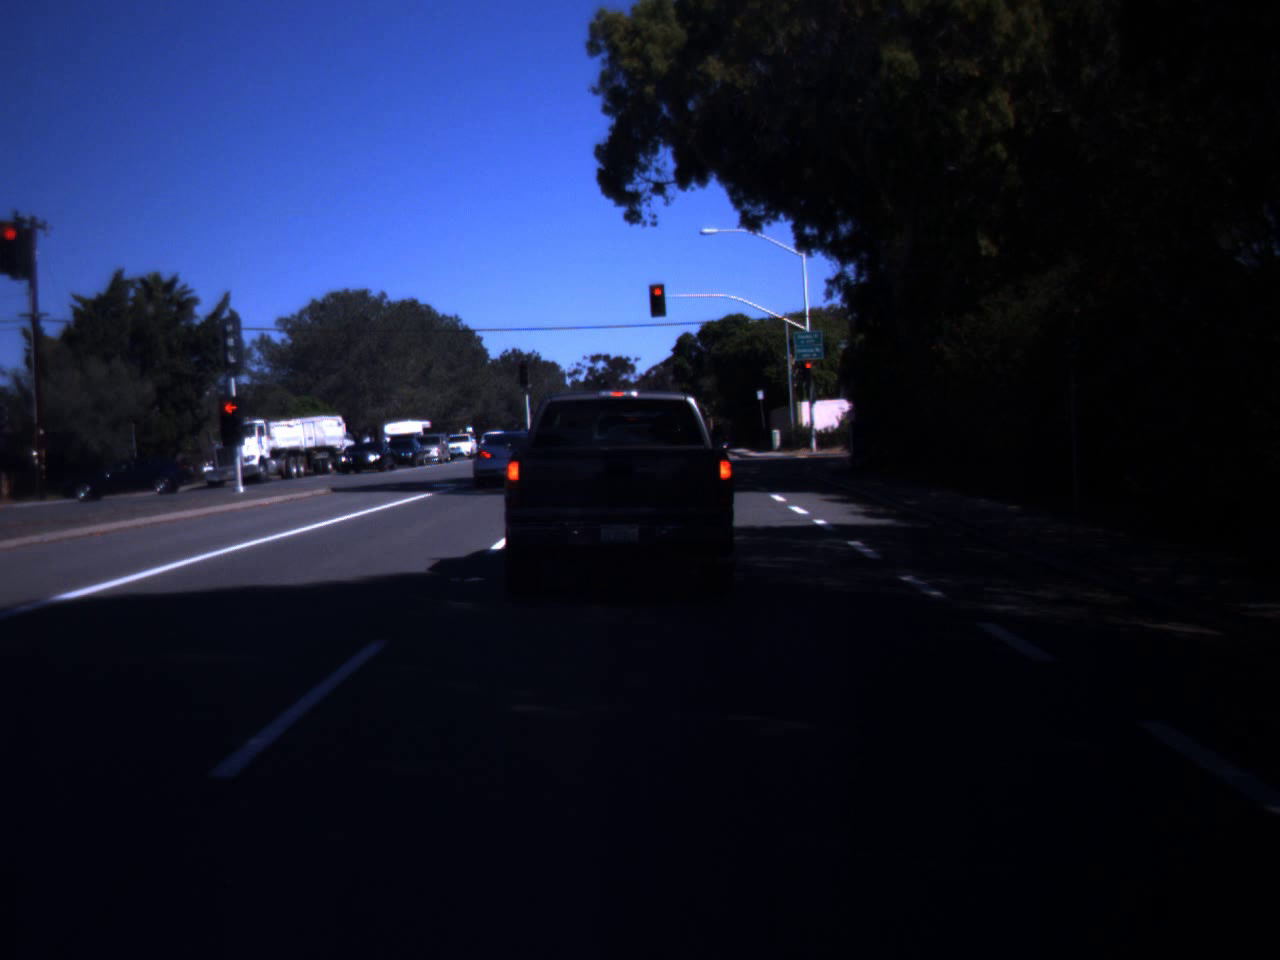stop: (216, 400, 246, 436), (0, 226, 22, 262), (652, 288, 664, 306), (802, 362, 814, 380)
